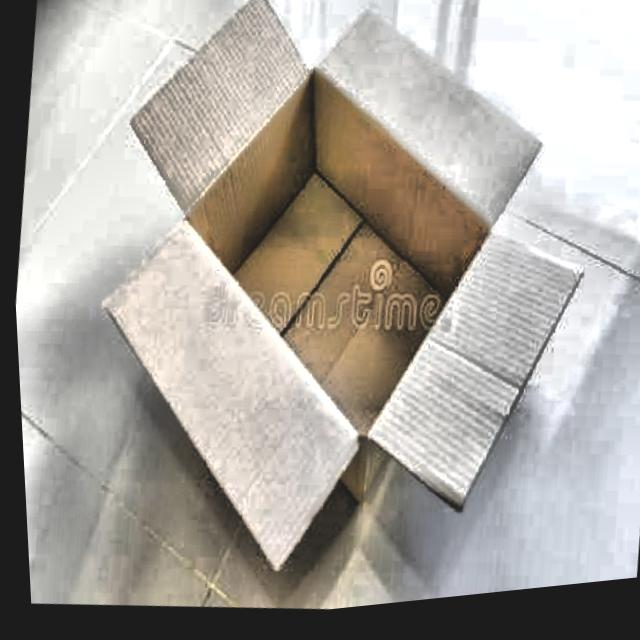Cardbox: (85, 0, 537, 610)
